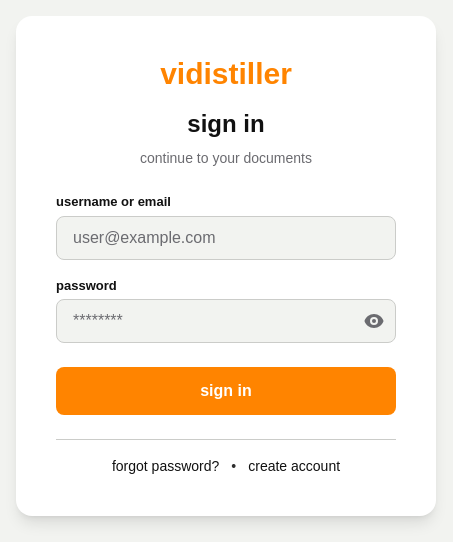
Test: LoginPage error display › toggles password visibility when eye icon is clicked
The image size is (453, 542).
Click the button named "show password". click: (380,321)
box: top-left (364, 299), bottom-right (396, 343)
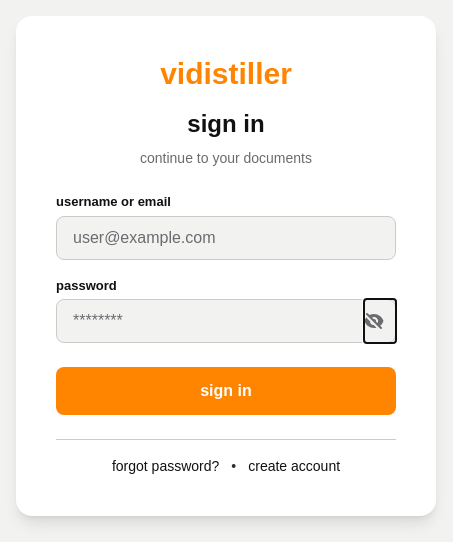
Check: the button named "hide password" is shown
Click the button named "hide password". click: (380,321)
box: top-left (364, 299), bottom-right (396, 343)
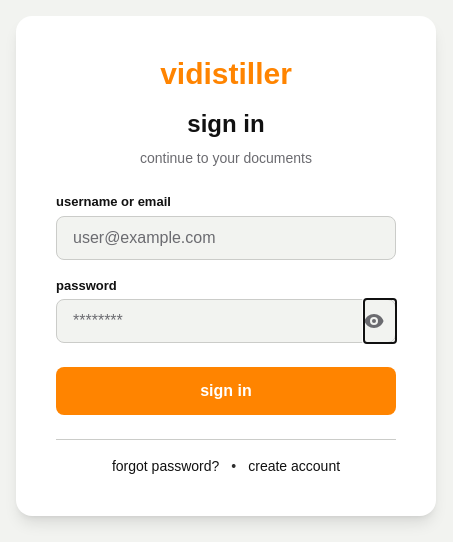
Check: the button named "show password" is shown, box top-left (364, 299), bottom-right (396, 343)
